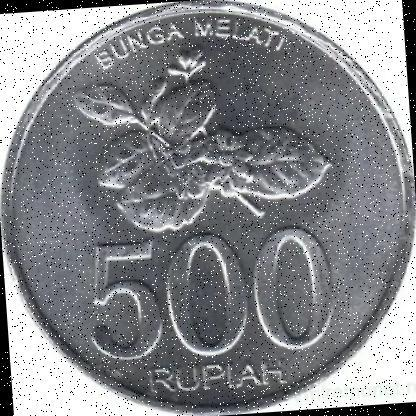coin_500_e2003: (1, 0, 416, 416)
